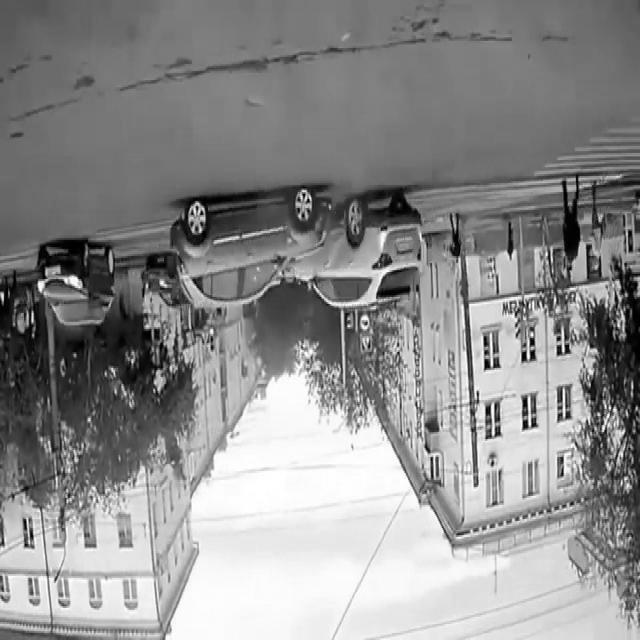moderate: (163, 174, 426, 326)
